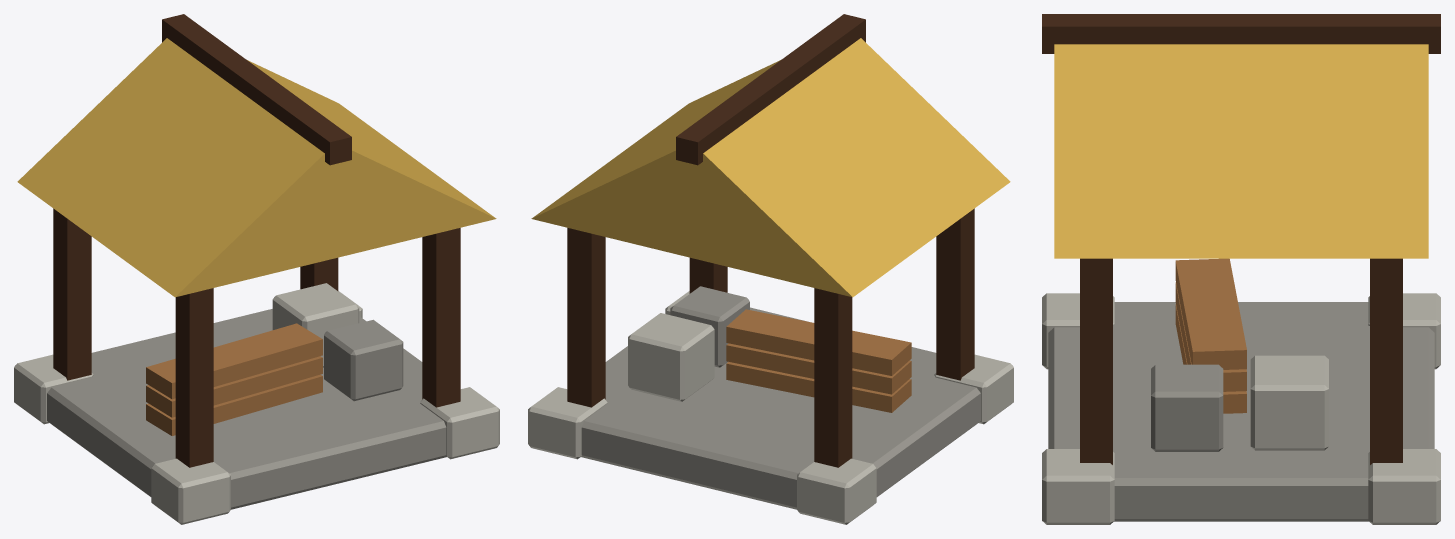
Rendered from builder_yard.glb.
3 views of the same model, side by side, from view 1: azimuth 30°, elevation 25°; view 2: azimuth 150°, elevation 25°; view 3: azimuth 270°, elevation 25° (orthographic). The views are drawn at different scales.
Visible parts, largest first — view 1: roof_body, foundation_core, roof_ridge, post.002, post, post.001, stone_block_2, plank_2, corner_brick, stone_block_1, corner_brick.002, plank_1 (+3 smaller); view 2: roof_body, foundation_core, roof_ridge, post.003, post.001, stone_block_1, post, plank_2, corner_brick.001, corner_brick.003, plank_1, plank_0 (+3 smaller); view 3: roof_body, foundation_core, roof_ridge, stone_block_1, post.002, post.003, stone_block_2, plank_2, corner_brick.002, corner_brick.003, corner_brick, corner_brick.001 (+2 smaller).
Part boxes in pixels (x1,y1,x2,y2): roof_body: (17,38,496,297); foundation_core: (47,309,446,509); roof_ridge: (162,14,351,165); post.002: (422,228,460,407); post: (175,288,213,467); post.001: (53,208,91,380); stone_block_2: (324,319,403,401); plank_2: (146,323,322,399); corner_brick: (151,458,230,524); stone_block_1: (272,283,359,367); corner_brick.002: (420,387,499,459); plank_1: (146,356,322,417); roof_body: (531,38,1010,297); foundation_core: (581,307,980,509); roof_ridge: (676,14,865,165); post.003: (567,228,605,407); post.001: (814,288,852,467); stone_block_1: (628,313,714,401); post: (936,208,974,380); plank_2: (726,309,911,375); corner_brick.001: (797,458,876,524); corner_brick.003: (528,387,607,459); plank_1: (726,343,911,394); plank_0: (726,362,911,412); roof_body: (1054,44,1428,258); foundation_core: (1048,302,1434,521); roof_ridge: (1042,14,1440,53); stone_block_1: (1250,355,1328,450); post.002: (1080,258,1112,464); post.003: (1370,258,1402,464); stone_block_2: (1151,364,1223,451); plank_2: (1175,258,1246,369); corner_brick.002: (1042,449,1114,524); corner_brick.003: (1368,449,1440,524); corner_brick: (1042,293,1114,369); corner_brick.001: (1368,293,1440,369).
Bounding box in the file's own units: 1.46 × 1.51 × 1.32.
